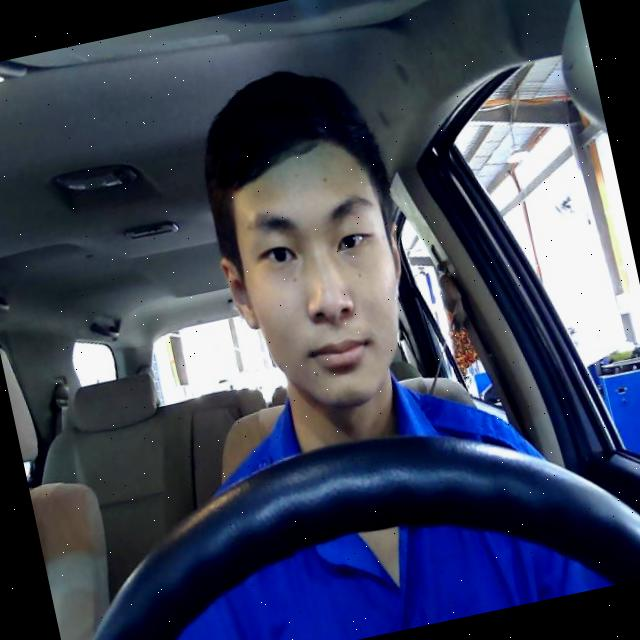focused: (198, 130, 430, 427)
